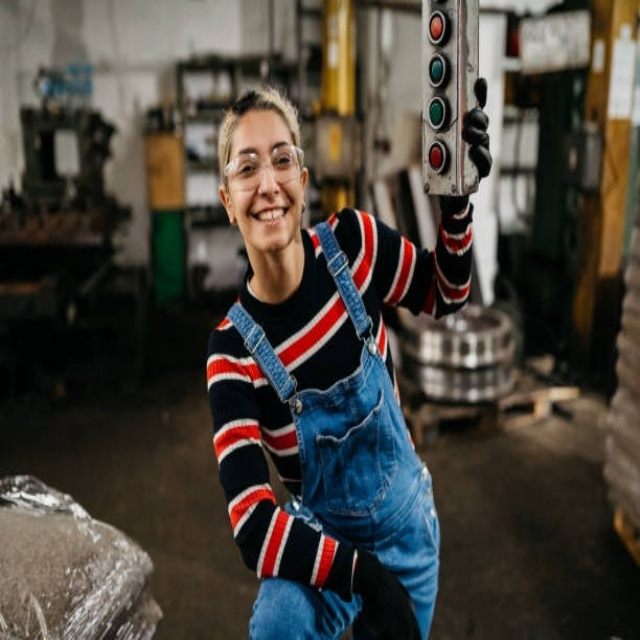Gafas: (225, 145, 305, 193)
Guantes: (349, 545, 422, 640), (461, 82, 493, 183)
Sin_mascara: (242, 195, 294, 240)
